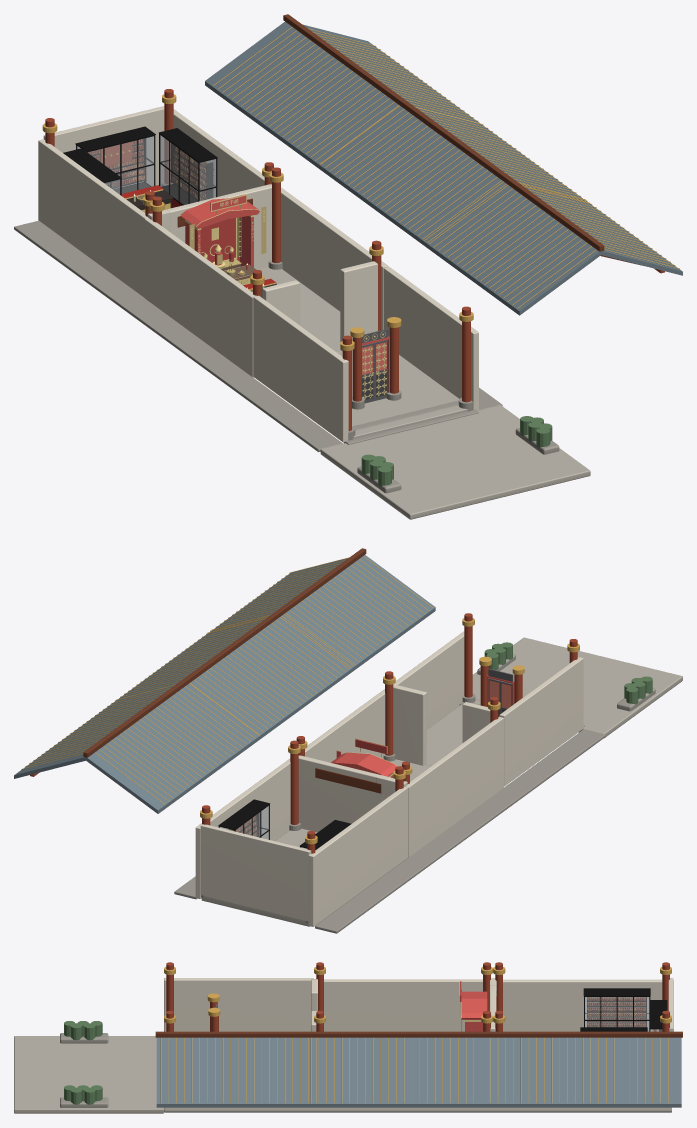
The model's file is kwong-fook-interior.glb.
3 views of the same model, one above another, from view 1: azimuth 30°, elevation 25°; view 2: azimuth 150°, elevation 25°; view 3: azimuth 270°, elevation 25° (orthographic). The views are drawn at different scales.
Visible parts, largest first — view 1: Entry forecourt, Optional pitched temple roof.004, Optional pitched temple roof.002, Optional pitched temple roof, Plastered side wall.001, Plastered side wall.002, West corridor paving, Plastered side wall, Plastered side wall.005, Plastered side wall.004, Front hall stone floor, Optional pitched temple roof.005 (+21 smaller); view 2: Optional pitched temple roof.004, Optional pitched temple roof.002, Optional pitched temple roof, Rear sanctuary wall, Plastered side wall.002, Plastered side wall.001, Entry forecourt, West corridor paving, Plastered side wall, Cross partition pier.002, Plastered side wall.005, Plastered side wall.003 (+17 smaller); view 3: Optional pitched temple roof.003, Optional pitched temple roof.005, Optional pitched temple roof.001, Entry forecourt, Plastered side wall.001, Plastered side wall, Plastered side wall.002, East corridor paving, Roof ridge cap.002, Roof ridge cap.001, Roof ridge cap, Glass | Front L.001 (+14 smaller).
Boxes of the visible parts, x1,y1,x2,y2 form: Entry forecourt: [320, 405, 590, 519]; Optional pitched temple roof.004: [205, 22, 401, 163]; Optional pitched temple roof.002: [312, 100, 499, 242]; Optional pitched temple roof: [419, 179, 601, 315]; Plastered side wall.001: [145, 218, 256, 377]; Plastered side wall.002: [38, 139, 148, 297]; West corridor paving: [14, 220, 342, 452]; Plastered side wall: [253, 295, 348, 442]; Plastered side wall.005: [383, 267, 478, 410]; Plastered side wall.004: [281, 187, 388, 330]; Front hall stone floor: [338, 350, 467, 439]; Optional pitched temple roof.005: [302, 24, 484, 126]; Optional pitched temple roof.004: [86, 682, 261, 813]; Optional pitched temple roof.002: [189, 619, 356, 744]; Optional pitched temple roof: [277, 555, 435, 670]; Rear sanctuary wall: [200, 824, 311, 921]; Plastered side wall.002: [308, 787, 407, 926]; Plastered side wall.001: [405, 717, 503, 857]; Entry forecourt: [472, 637, 682, 738]; West corridor paving: [315, 729, 605, 933]; Plastered side wall: [499, 657, 583, 786]; Cross partition pier.002: [298, 755, 391, 832]; Plastered side wall.005: [393, 631, 464, 751]; Plastered side wall.003: [195, 759, 290, 898]; Optional pitched temple roof.003: [306, 1037, 502, 1107]; Optional pitched temple roof.005: [485, 1037, 681, 1107]; Optional pitched temple roof.001: [156, 1037, 323, 1107]; Entry forecourt: [14, 1036, 163, 1113]; Plastered side wall.001: [324, 979, 482, 1031]; Plastered side wall: [164, 978, 313, 1031]; Plastered side wall.002: [503, 979, 673, 1031]; East corridor paving: [164, 1107, 671, 1112]; Roof ridge cap.002: [485, 1031, 682, 1037]; Roof ridge cap.001: [306, 1031, 503, 1037]; Roof ridge cap: [155, 1031, 324, 1037]; Glass | Front L.001: [585, 997, 616, 1026].
Bounding box in the file's own units: 14.34 × 5.5 × 27.65.
